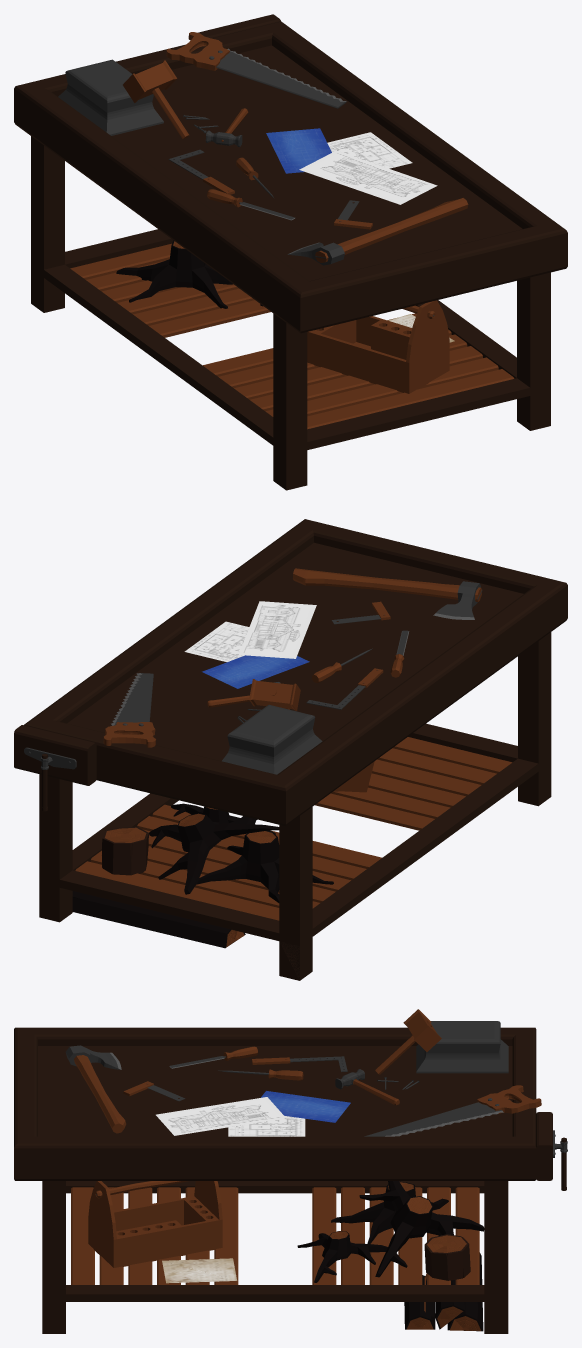
The model's file is carpenterWorkbench.obj.
3 renders of one model, top to bottom at view 1: azimuth 30°, elevation 25°; view 2: azimuth 150°, elevation 25°; view 3: azimuth 270°, elevation 25°, orthographic. The views are drawn at different scales.
Parts seen in each view (by area): view 1: Workbench_Cube.013; view 2: Workbench_Cube.013; view 3: Workbench_Cube.013.
Boxes of the visible parts, x1=… form: Workbench_Cube.013: x1=14, y1=14, x2=567, y2=490; Workbench_Cube.013: x1=14, y1=519, x2=567, y2=980; Workbench_Cube.013: x1=14, y1=1009, x2=567, y2=1333.
Bounding box in the file's own units: 4.35 × 3.93 × 8.55.
